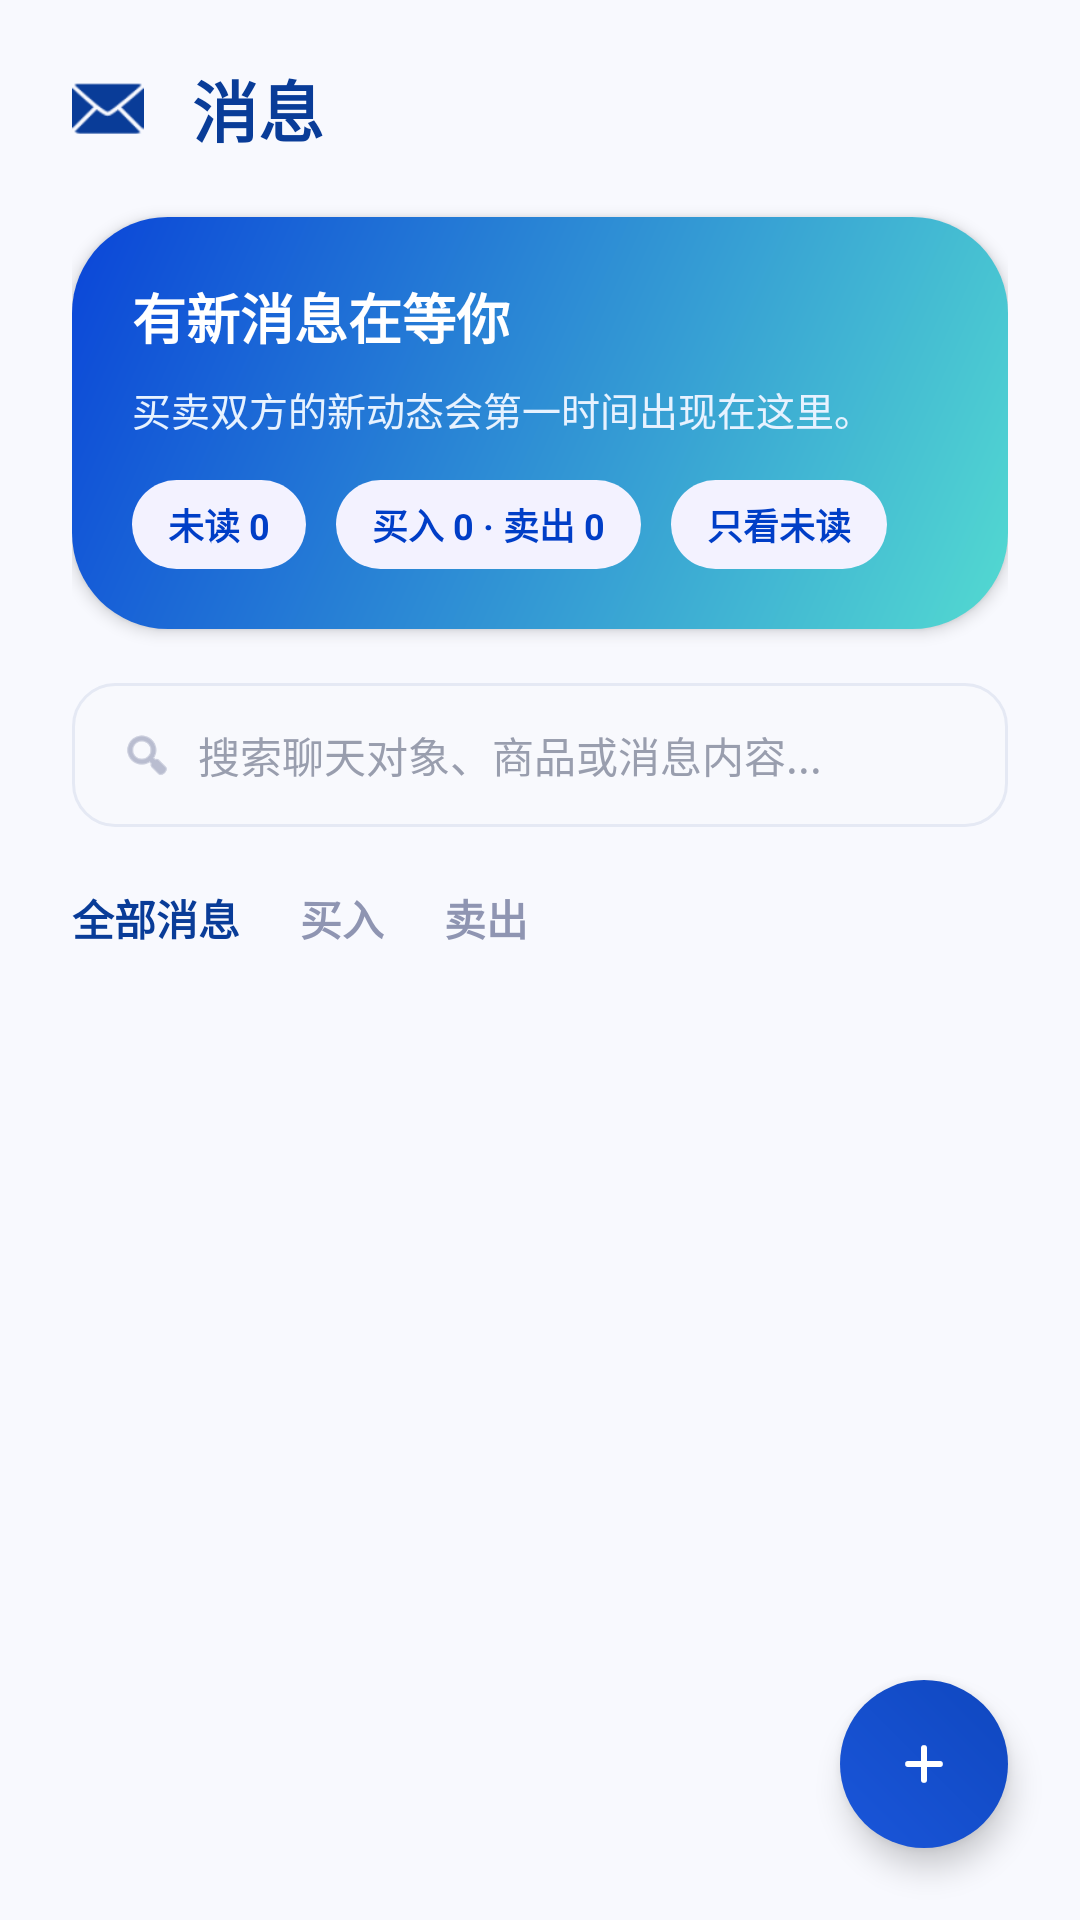

Screen size 1080 x 1920. Icon name, then its box in pixels as bbox=(x1, y1, x2, y2):
email: bbox=(72, 83, 144, 134)
发起新私信: bbox=(840, 1680, 1008, 1848)
